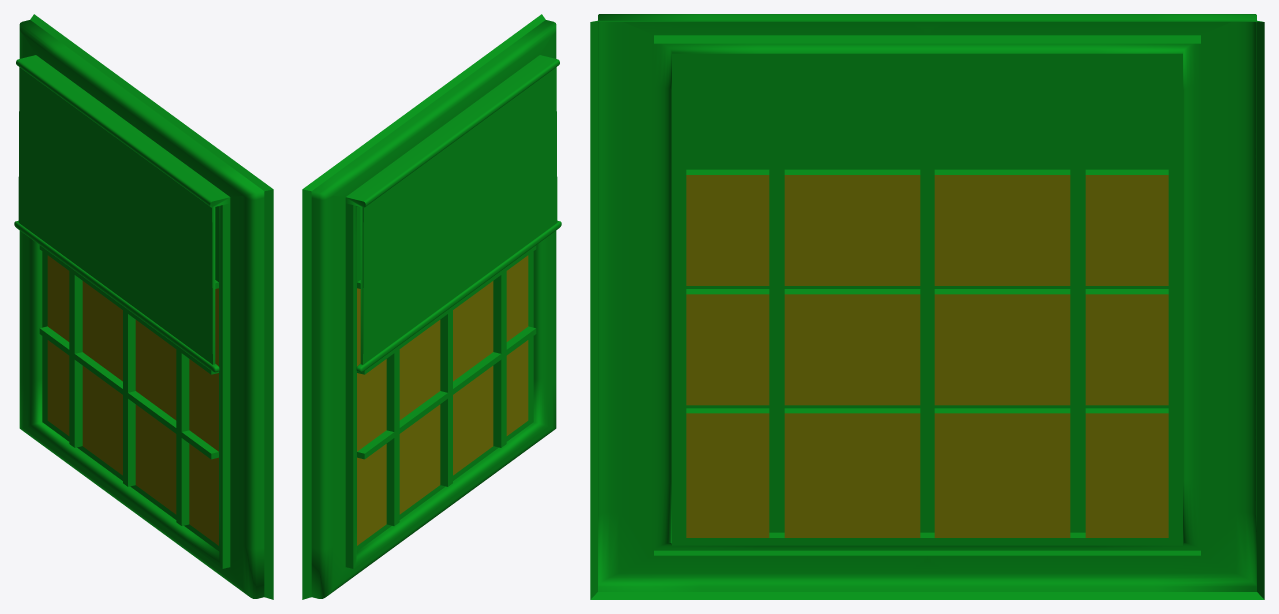
Rendered from fenetre.fbx.
3 views of the same model, side by side, from view 1: azimuth 30°, elevation 25°; view 2: azimuth 150°, elevation 25°; view 3: azimuth 270°, elevation 25° (orthographic). The views are drawn at different scales.
Parts seen in each view (by area): view 1: fenetre; view 2: fenetre; view 3: fenetre.
Part boxes in pixels (x1,y1,x2,y2): fenetre: (14,14,273,599); fenetre: (302,14,561,599); fenetre: (590,14,1264,599).
Size of the model in its own units: 14.23 by 138 by 145.
